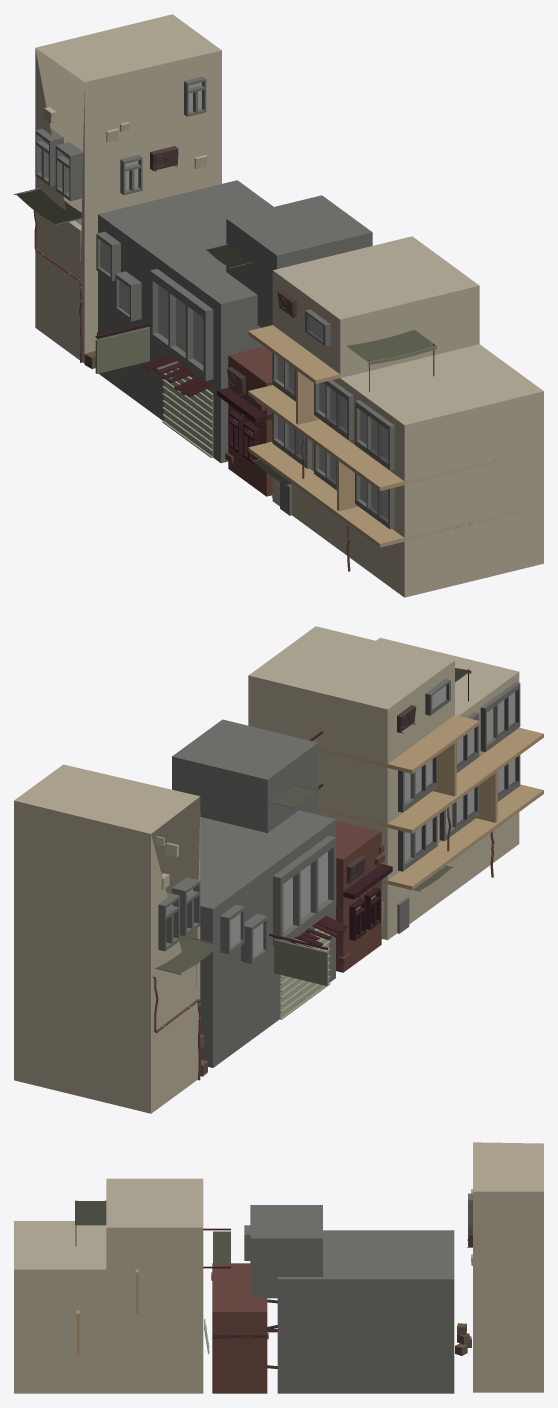
The model's file is APARTMENT_otherbuildings4.fbx.
3 views of the same model, one above another, from view 1: azimuth 30°, elevation 25°; view 2: azimuth 150°, elevation 25°; view 3: azimuth 270°, elevation 25° (orthographic). The views are drawn at different scales.
Parts seen in each view (by area): view 1: polySurface1200; view 2: polySurface1200; view 3: polySurface1200.
Part boxes in pixels (x1=…): polySurface1200: x1=14, y1=14, x2=543, y2=597; polySurface1200: x1=14, y1=626, x2=543, y2=1113; polySurface1200: x1=14, y1=1142, x2=543, y2=1393.
Bounding box in the file's own units: 63.38 × 82.53 × 196.
